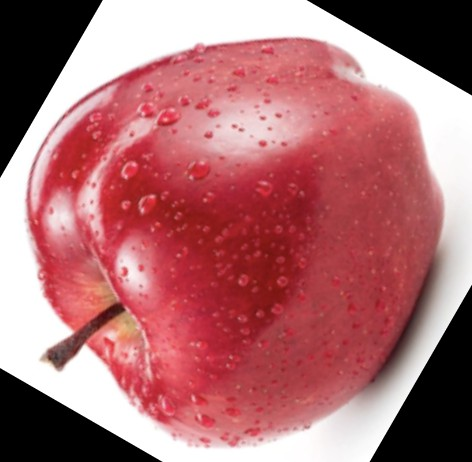fresh_apple: (29, 36, 443, 447)
